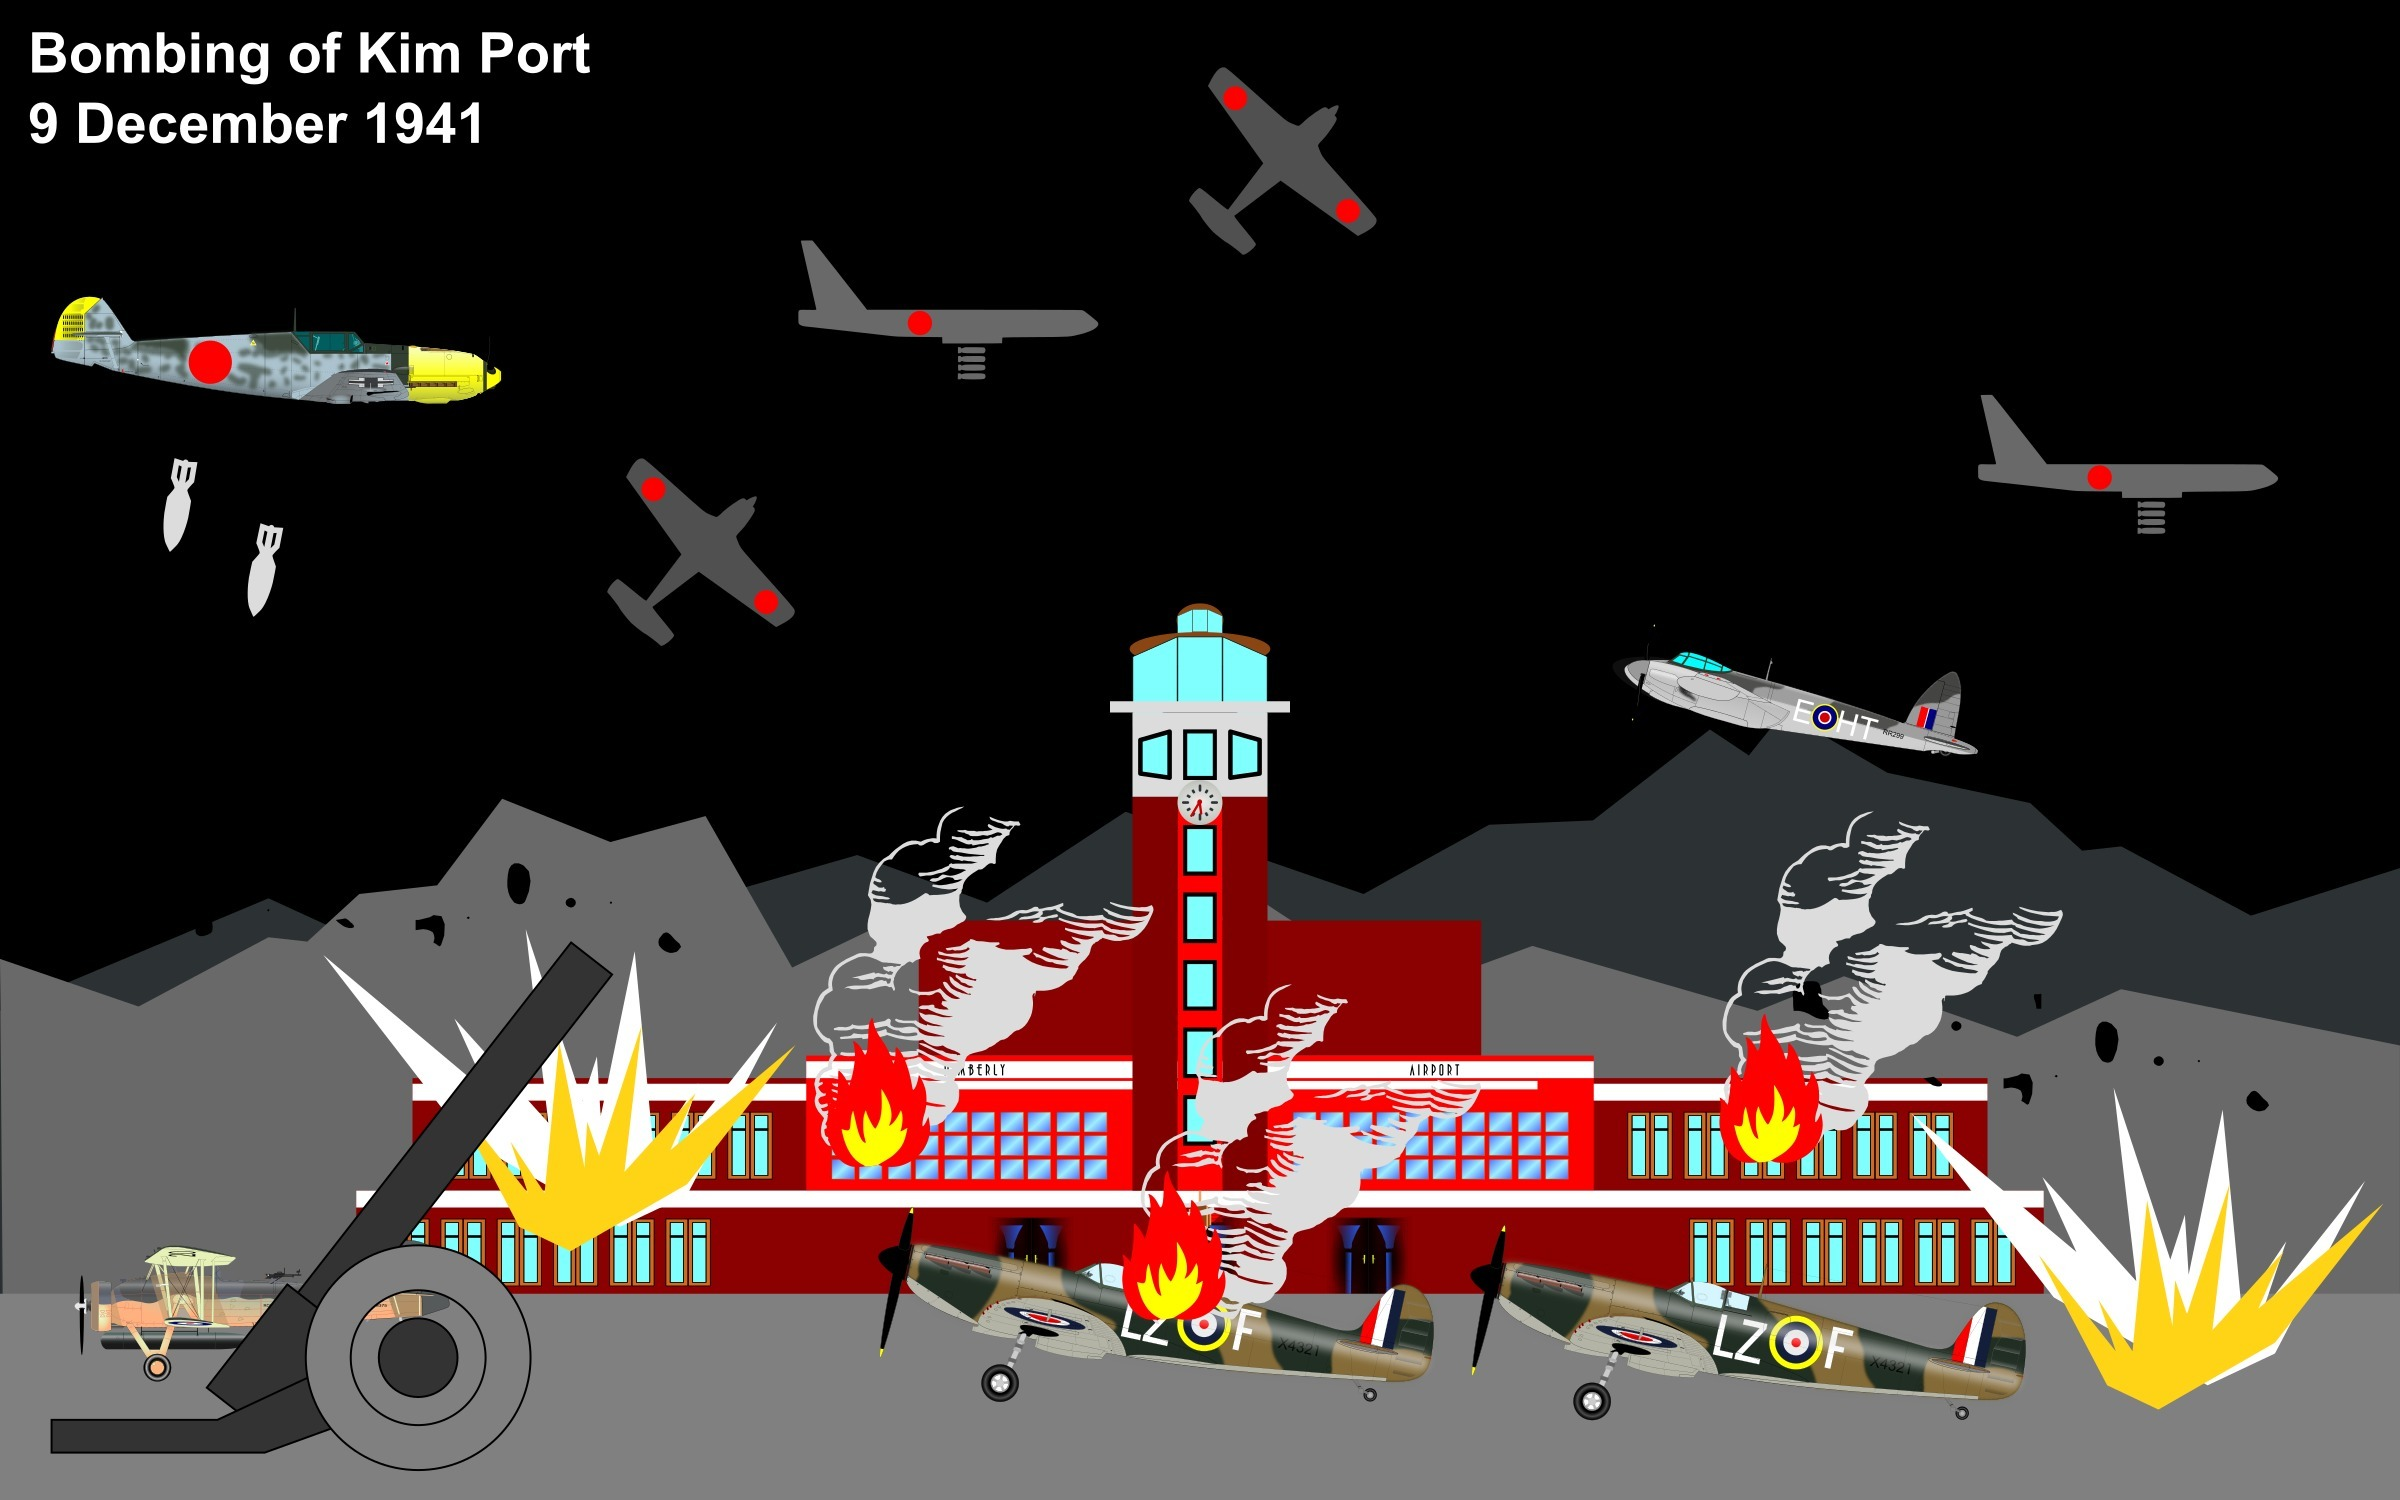aeroplane: (1462, 1211, 2029, 1441), (874, 1198, 1438, 1410), (41, 283, 525, 427), (73, 1239, 427, 1376), (1621, 638, 1992, 766), (601, 444, 814, 665), (1184, 55, 1387, 268), (783, 232, 1116, 358), (1966, 392, 2288, 512)
